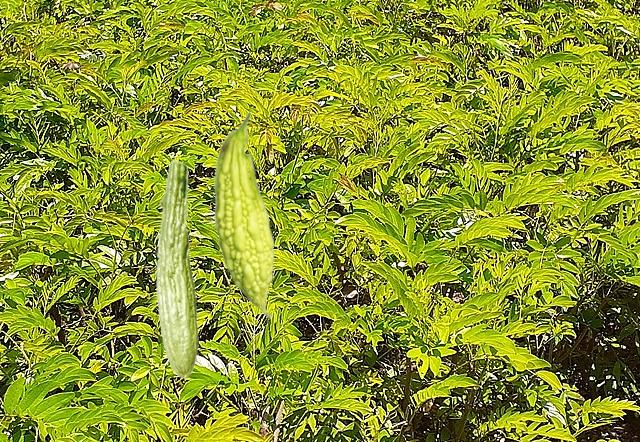ampalaya: (212, 109, 276, 321), (155, 159, 199, 378)
